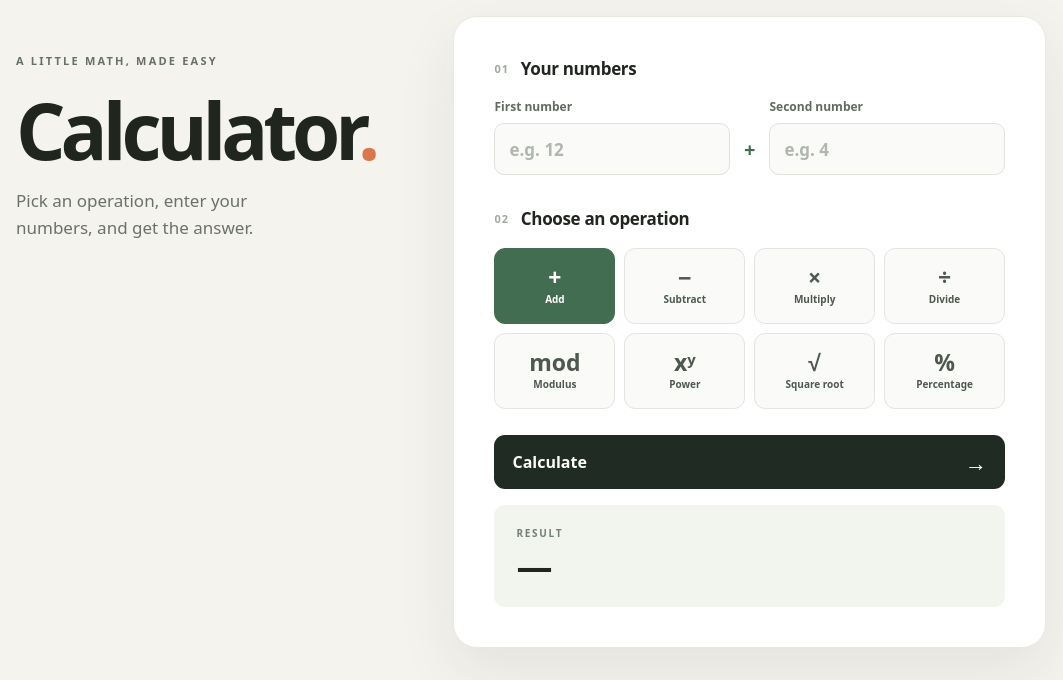
Test case: calculator form › shows its own validation error when the form is submitted without a number
Click the button "Calculate →" at (550, 462), box [494,435,1005,489]
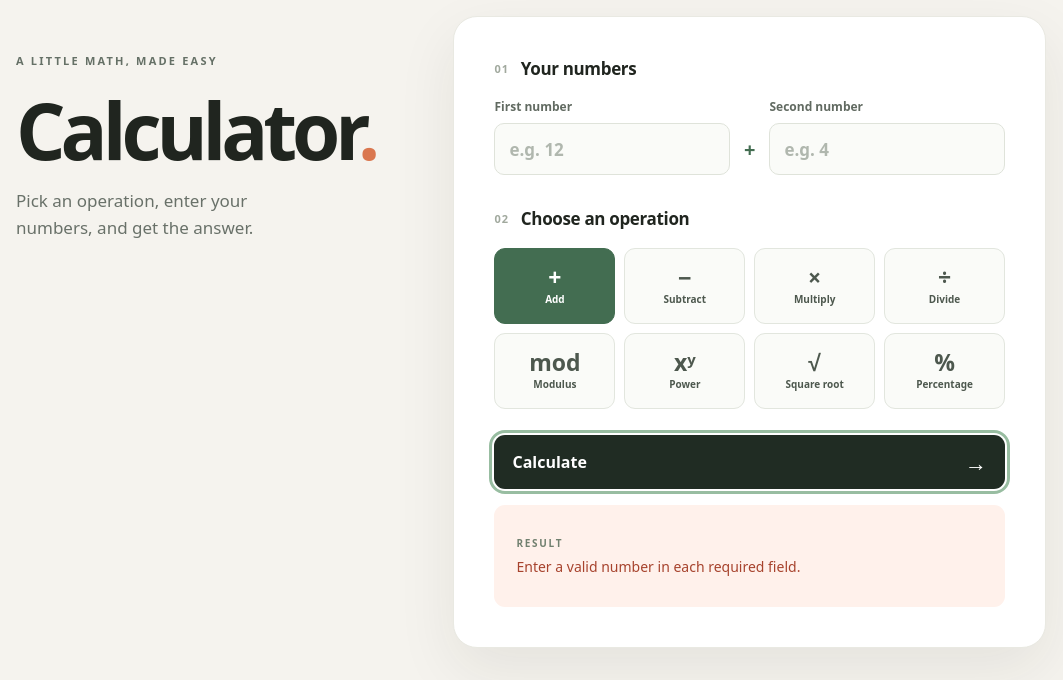
Expected: the text "Enter a valid number in each required field." is shown, [516,557,800,576]
